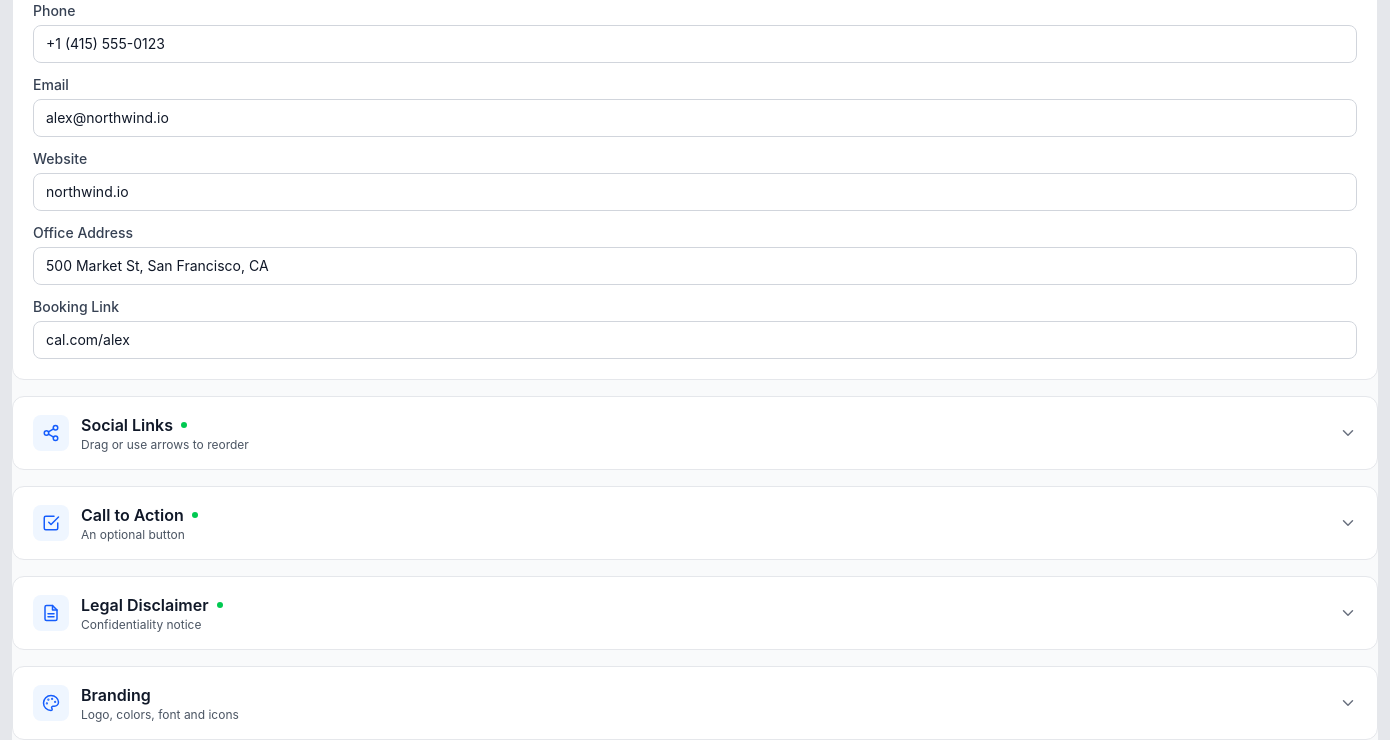
Test: SignatureForm keyboard reordering › keeps focus on the moved row when the pressed arrow becomes disabled
(page scrolled)
Click the button "Social Links Drag or use arrows to reorder": click(51, 433) [13,397,1377,469]
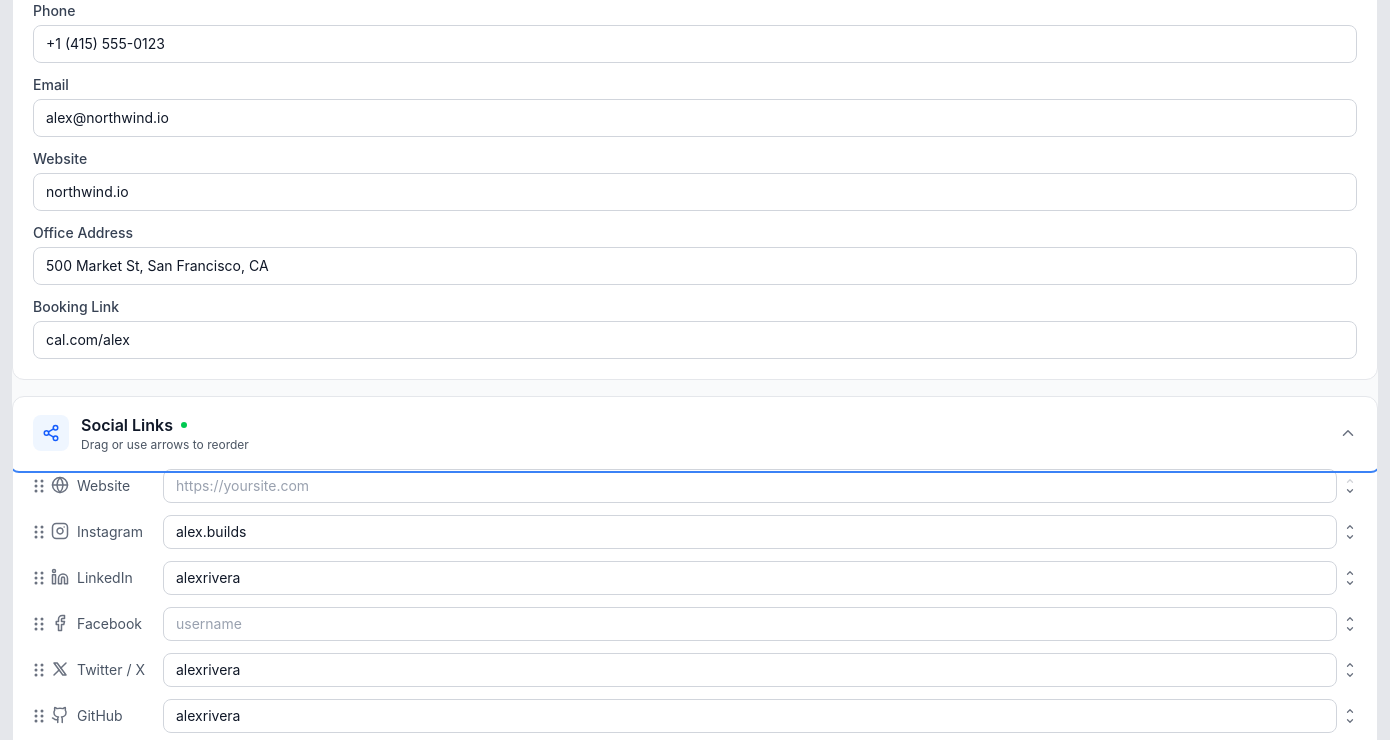
Click the button named "Move LinkedIn up": click(1350, 573) [1343,568,1357,578]
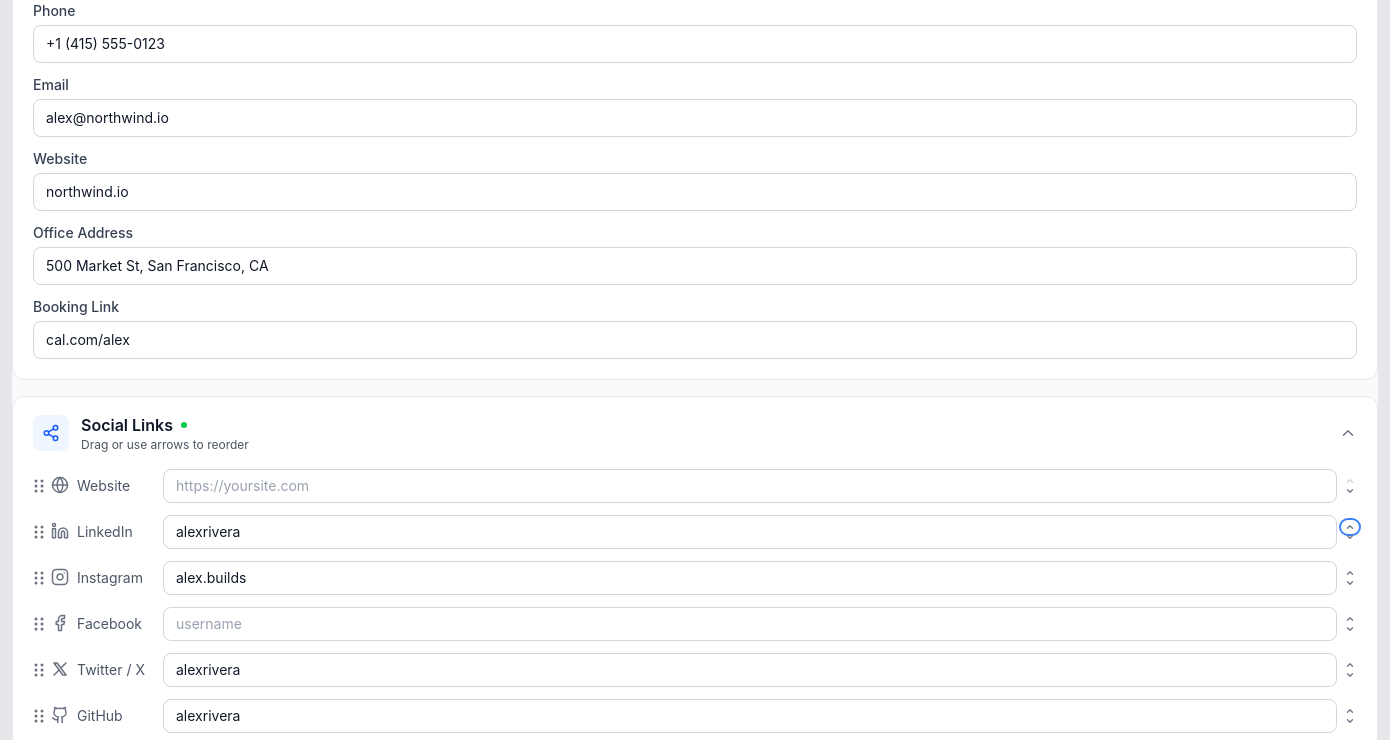
Click the button named "Move LinkedIn up": click(1350, 527) [1343,522,1357,532]
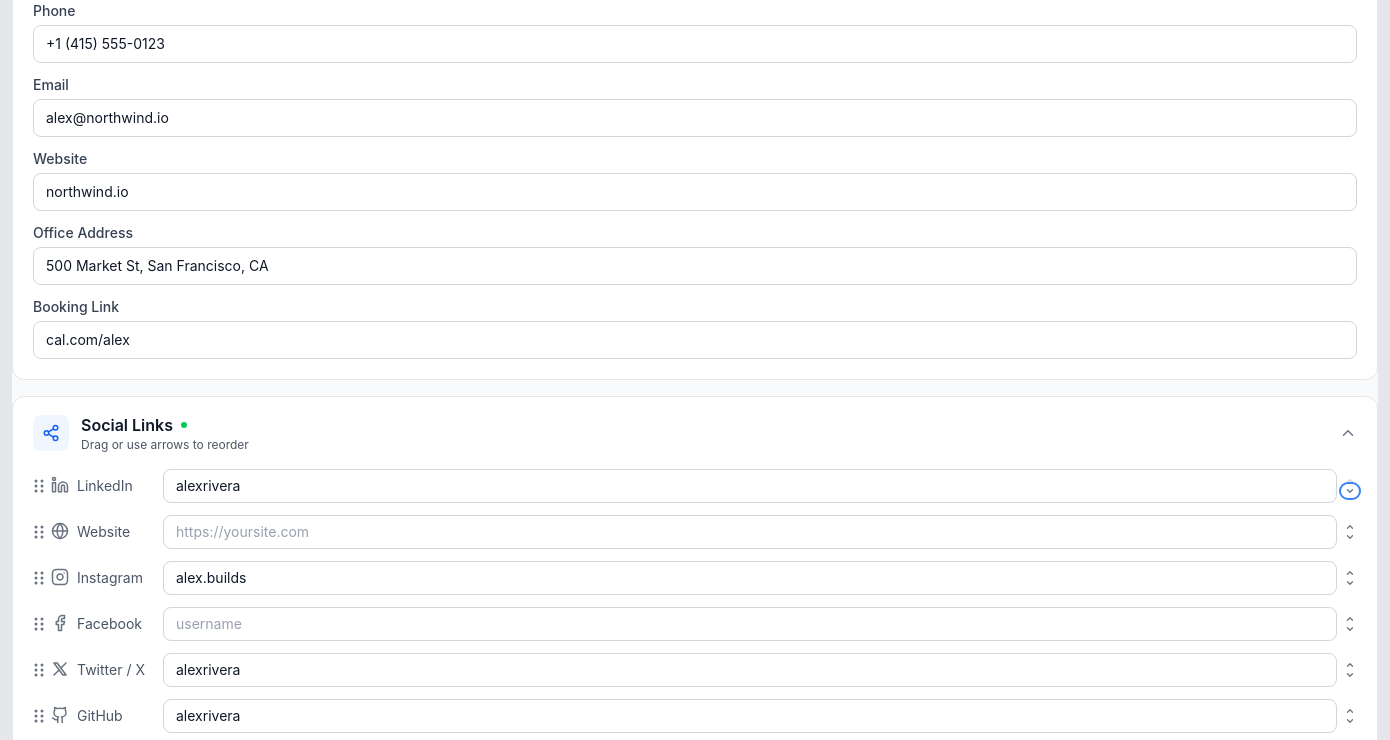
Result: the button named "Move LinkedIn up" is disabled at [1343,476,1357,486]
